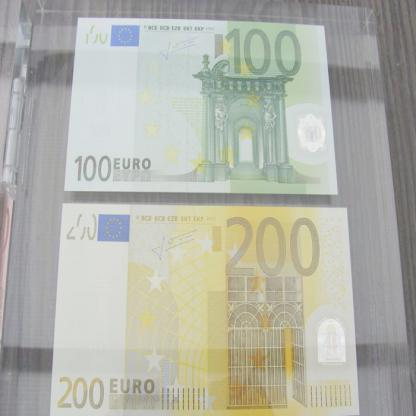euro_banknote: (51, 204, 360, 416), (67, 20, 342, 195)
